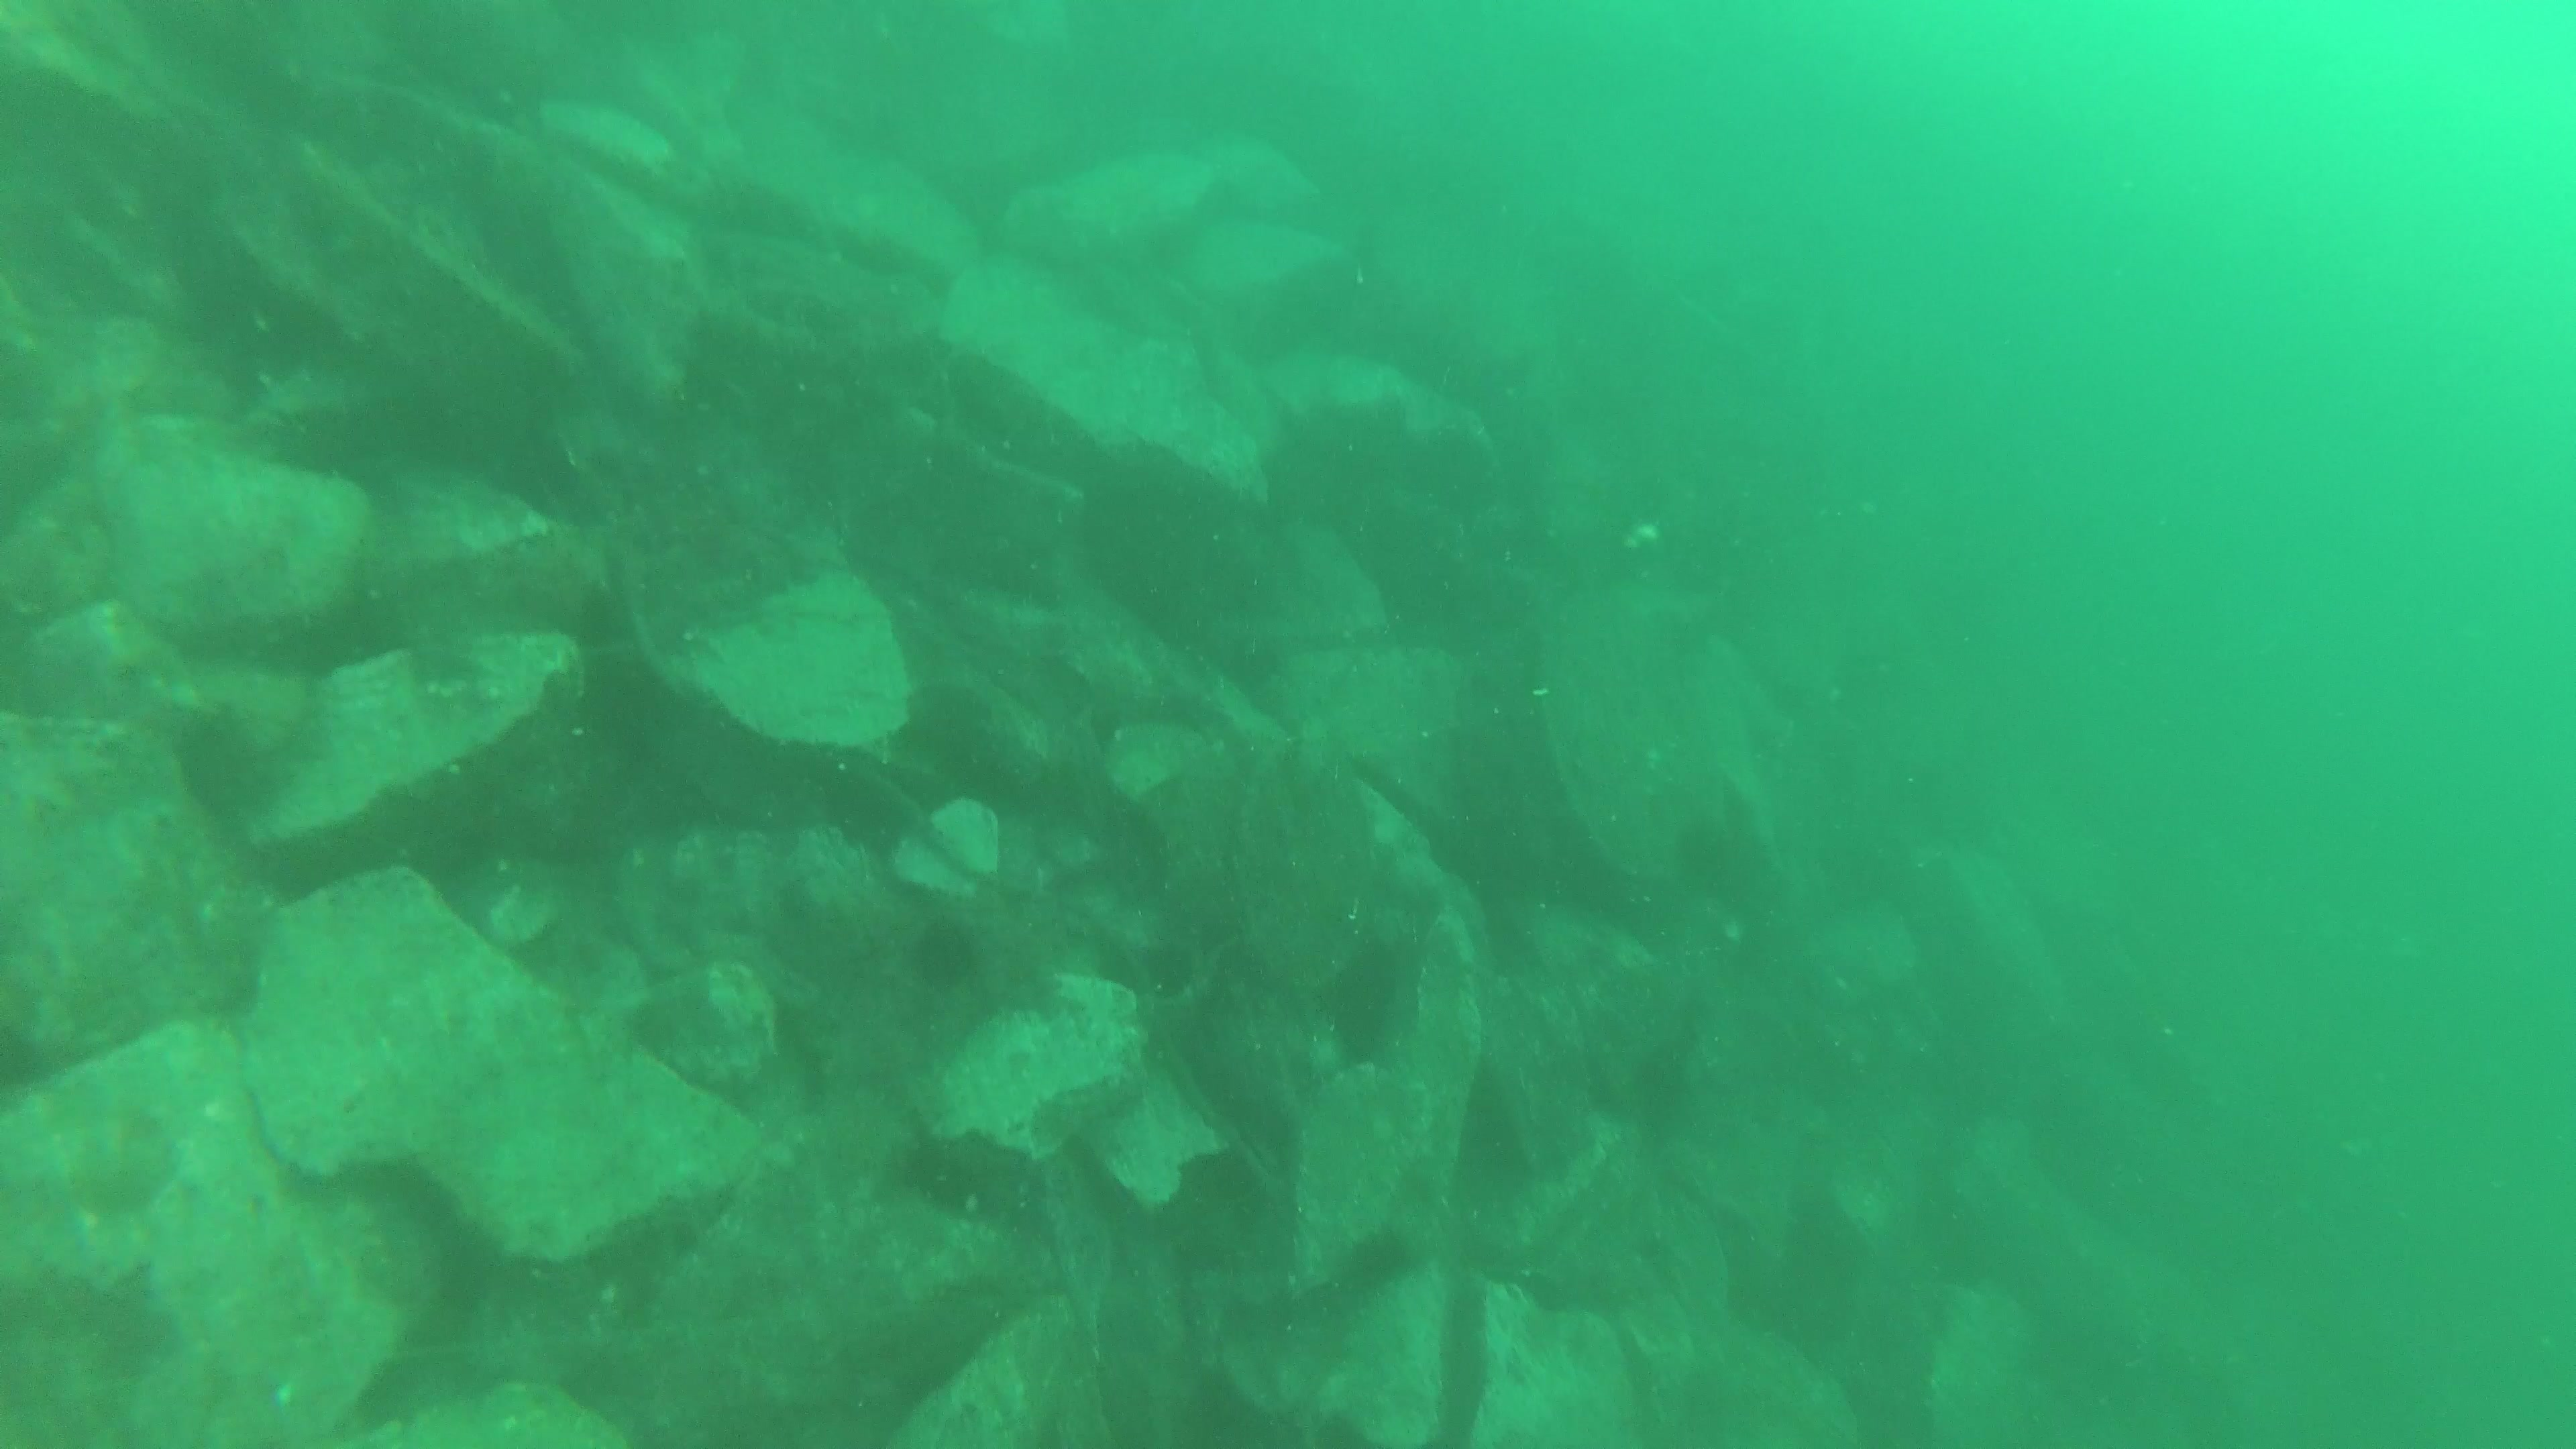echinus: (902, 916, 980, 993), (1660, 814, 1746, 879), (1345, 1221, 1417, 1292)
